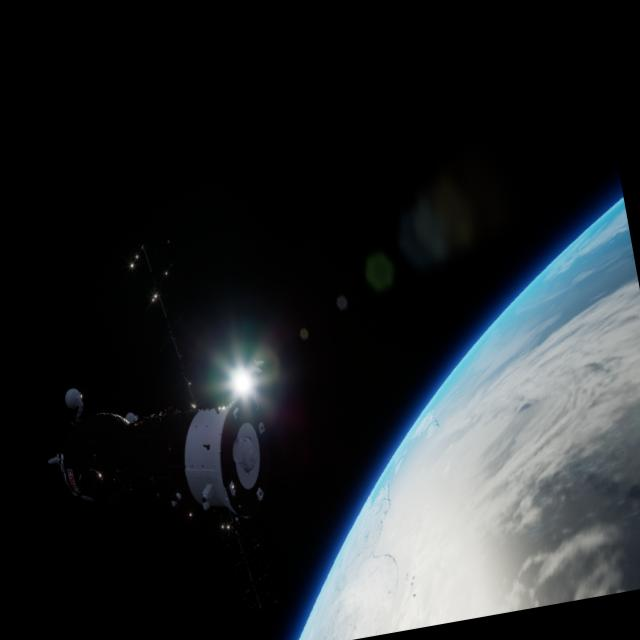Satellites revolving around earth: (224, 194, 640, 640), (34, 350, 286, 560)
